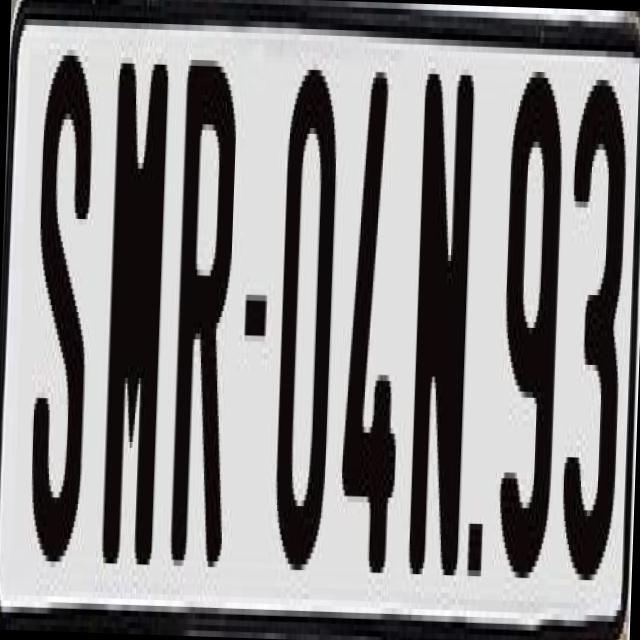0: (268, 62, 334, 564)
3: (557, 62, 625, 580)
4: (334, 71, 411, 585)
9: (494, 70, 570, 584)
M: (98, 56, 172, 576)
N: (402, 73, 478, 610)
R: (168, 48, 245, 568)
S: (26, 54, 96, 585)
